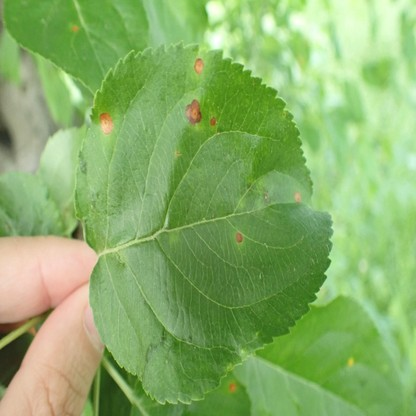frogeye_leaf_spot: (185, 99, 202, 126), (99, 112, 113, 134), (193, 58, 205, 76), (235, 230, 243, 243), (210, 117, 217, 125), (294, 192, 300, 201), (229, 383, 236, 390), (265, 195, 267, 199)
scab: (237, 179, 264, 212)
